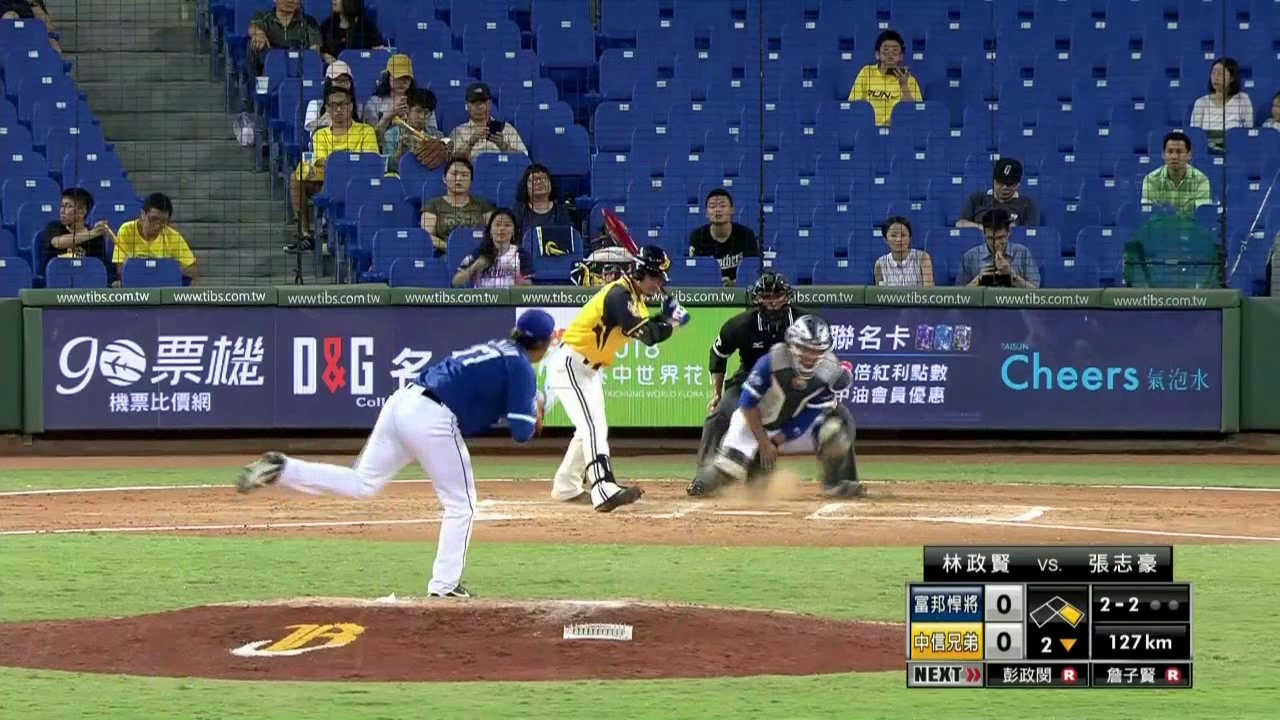base: (1029, 592, 1086, 630)
bat: (599, 204, 682, 312)
out: (1145, 587, 1183, 618)
score1: (986, 586, 1021, 620)
score2: (986, 625, 1023, 659)
session: (1030, 633, 1083, 659)
speed: (1099, 629, 1182, 656)
strikeball: (1093, 588, 1144, 618)
